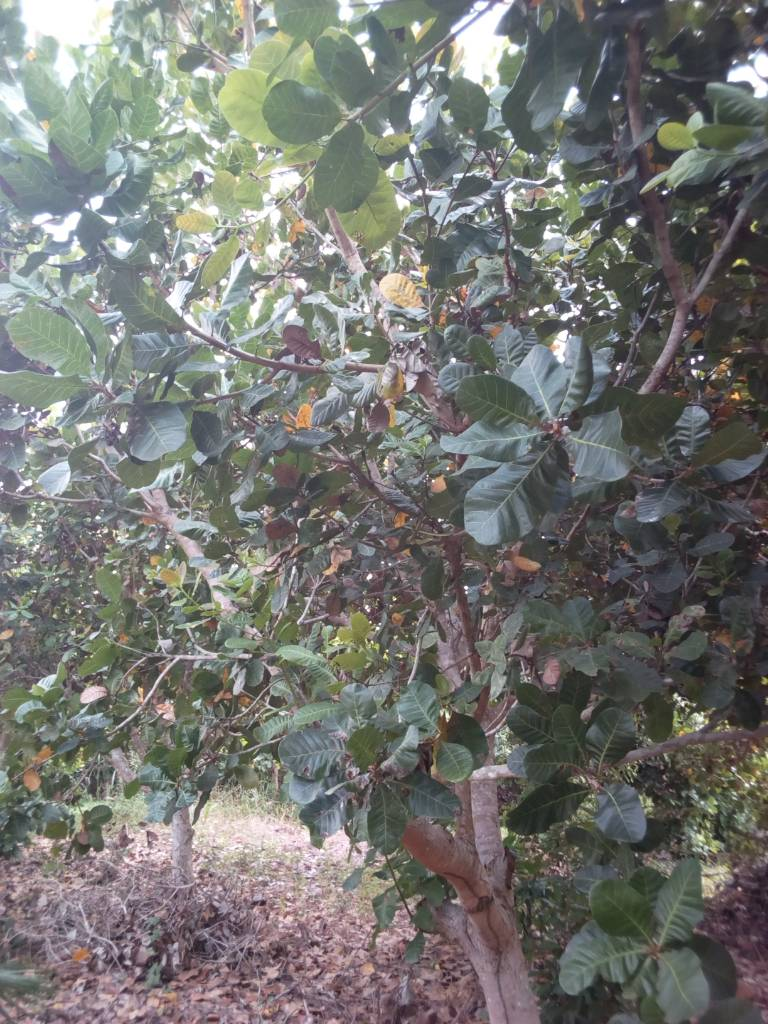Helopeltis anacardii: (465, 441, 558, 544), (558, 928, 655, 997), (621, 385, 679, 457), (277, 727, 352, 778)
